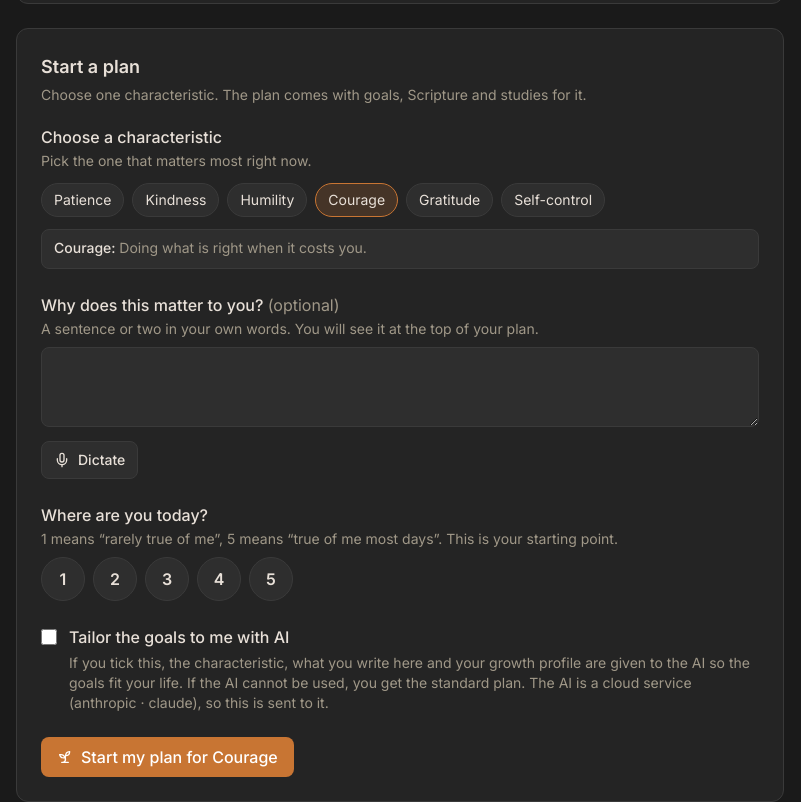
Test: GrowthPlansPage › shows the server message when the plan cannot be started
(page scrolled)
Step 1. Click the button "Start my plan for Courage" → x=167, y=757, box [41,737,294,777]
(page scrolled)
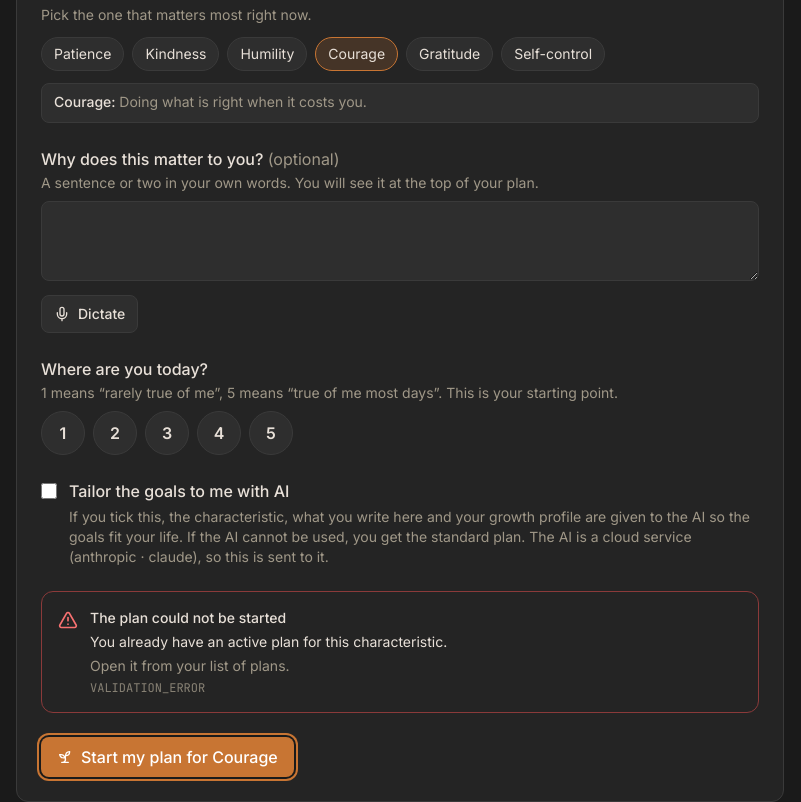
Expected: the message shows "You already have an active plan for this characteristic.", [90,633,447,650]
Expected: the message shows "Open it from your list of plans.", [90,657,290,674]
